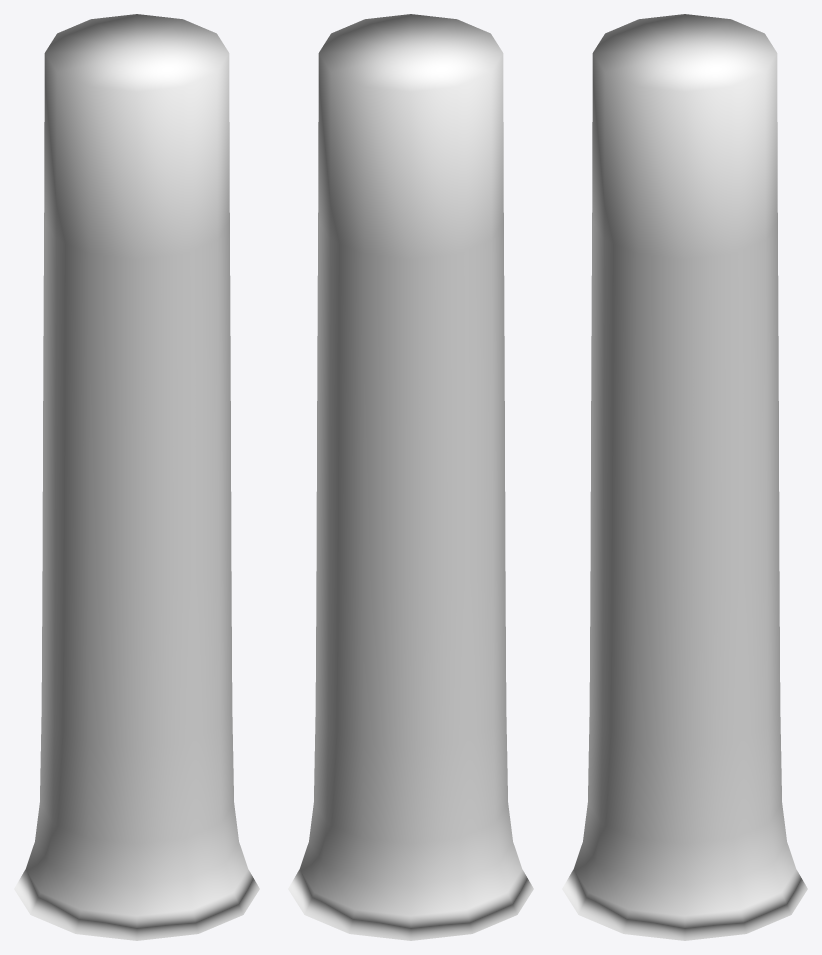
File: park-trunk-unit-authored-atlas.glb
3 renders of one model, left to right at view 1: azimuth 30°, elevation 25°; view 2: azimuth 150°, elevation 25°; view 3: azimuth 270°, elevation 25°, orthographic.
Visible parts, largest first — view 1: Authored surface; view 2: Authored surface; view 3: Authored surface.
Boxes of the visible parts, left/top/right/bottom form: Authored surface: left=14, top=14, right=259, bottom=940; Authored surface: left=288, top=14, right=533, bottom=940; Authored surface: left=562, top=14, right=807, bottom=940.
Size of the model in its own units: 0.8 by 3 by 0.8.
Materials: 1 (1 with a texture image).
